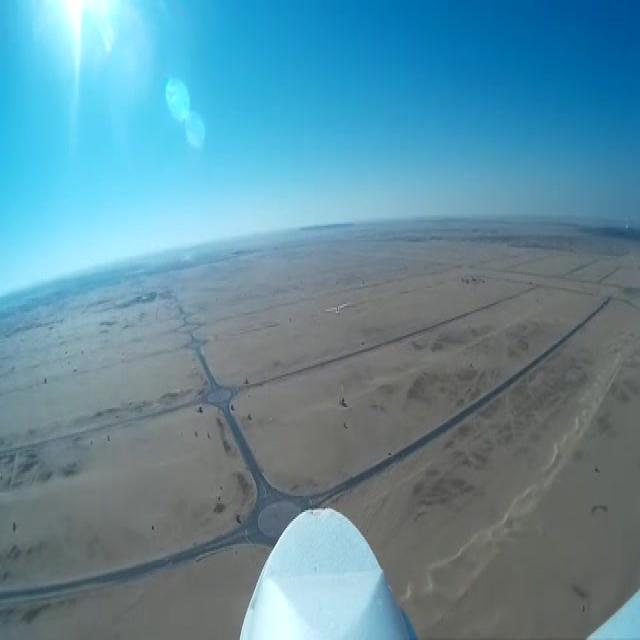iha: (326, 298, 351, 317)
